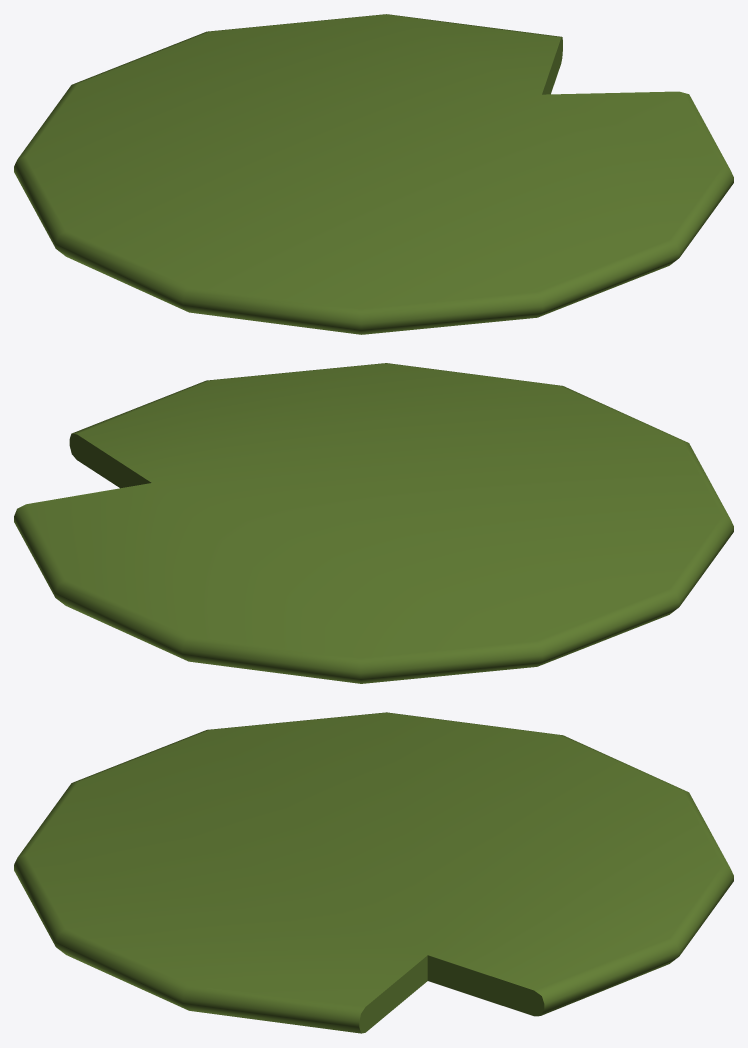
File: Leaf_1.fbx
The picture shows the model from 3 angles, top to bottom: view 1: azimuth 30°, elevation 25°; view 2: azimuth 150°, elevation 25°; view 3: azimuth 270°, elevation 25°; orthographic projection.
Visible parts, largest first — view 1: Leaf_1; view 2: Leaf_1; view 3: Leaf_1.
Part boxes in pixels (x1,y1,x2,y2): Leaf_1: (14,14,733,334); Leaf_1: (14,363,733,683); Leaf_1: (14,712,733,1033).
Bounding box in the file's own units: 80.77 × 3.19 × 80.83.
